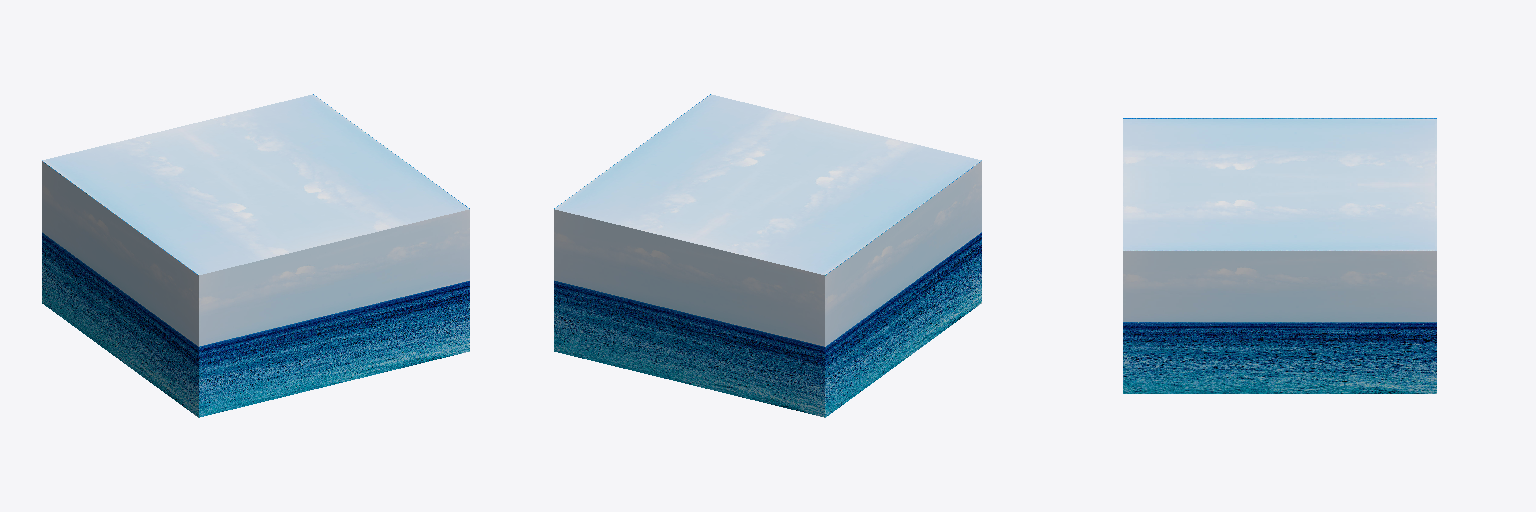
3 views of the same model, side by side, from view 1: azimuth 30°, elevation 25°; view 2: azimuth 150°, elevation 25°; view 3: azimuth 270°, elevation 25° (orthographic).
Visible parts, largest first — view 1: Cube_Cube.004; view 2: Cube_Cube.004; view 3: Cube_Cube.004.
Boxes of the visible parts, box(x1,y1,x2,y2) form: Cube_Cube.004: box(42, 94, 469, 417); Cube_Cube.004: box(554, 94, 981, 417); Cube_Cube.004: box(1123, 118, 1436, 393).
Size of the model in its own units: 40 by 20 by 40.
Materials: 2 (2 with a texture image).